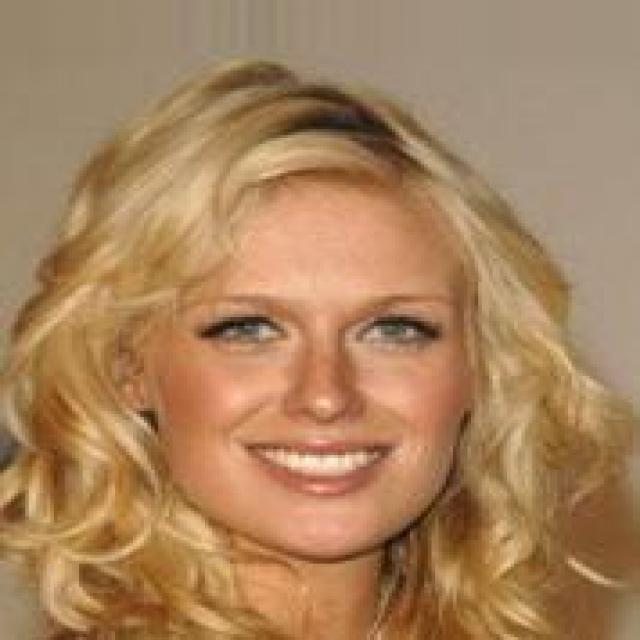nomask: (101, 132, 532, 552)
